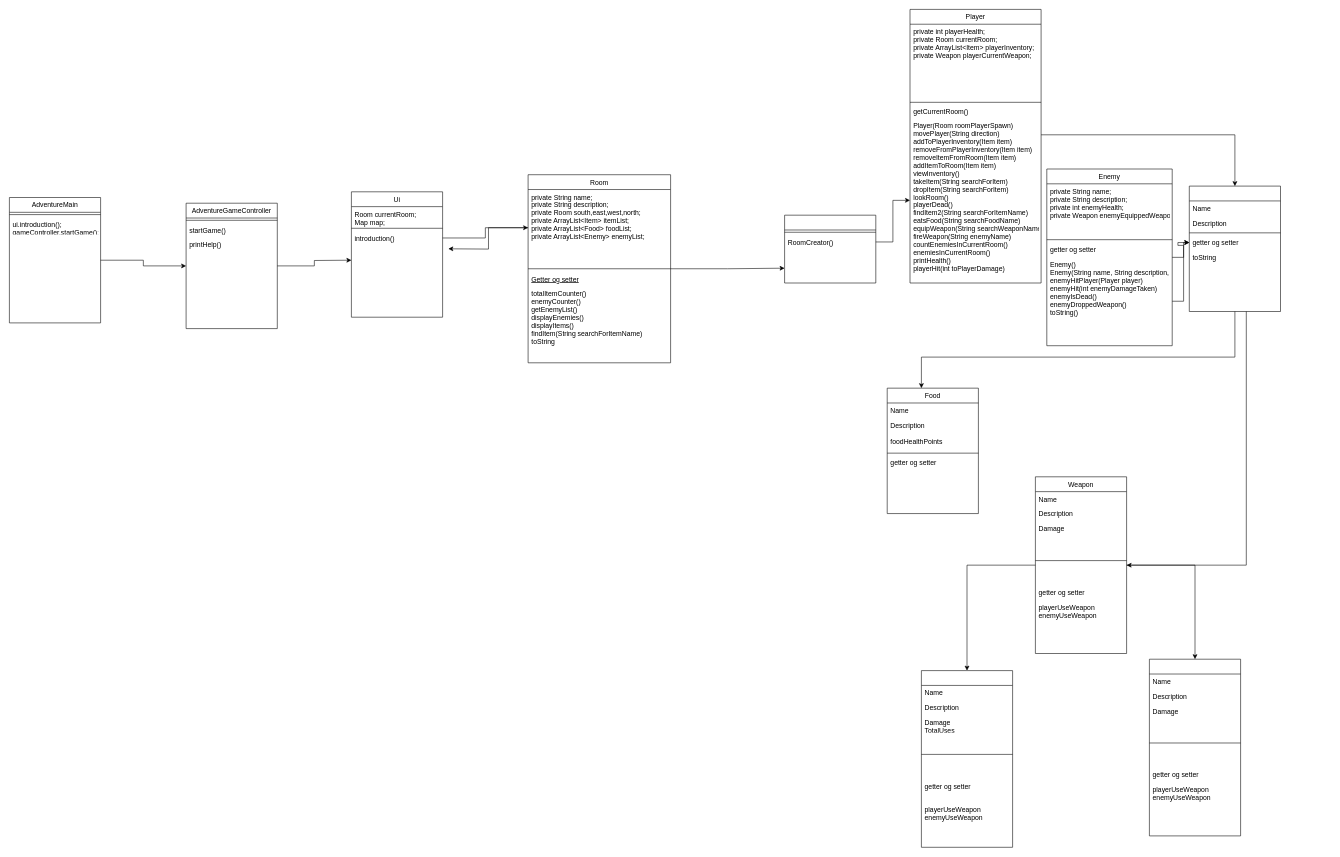
The diagram is 1340 pixels wide and 857 high, and some of its shapes have lost their labels. Each missing label, with the box of its shape:
Item: (1189, 186, 1281, 312)
Map: (784, 215, 876, 283)
MeleeWeapon: (1149, 659, 1241, 836)
RangedWeapon: (921, 670, 1013, 847)
